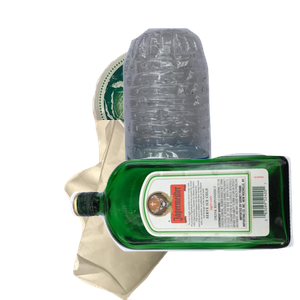glass: (67, 150, 300, 300)
metal: (90, 44, 289, 195)
plastic: (111, 26, 300, 206)
trash: (62, 120, 251, 300)
